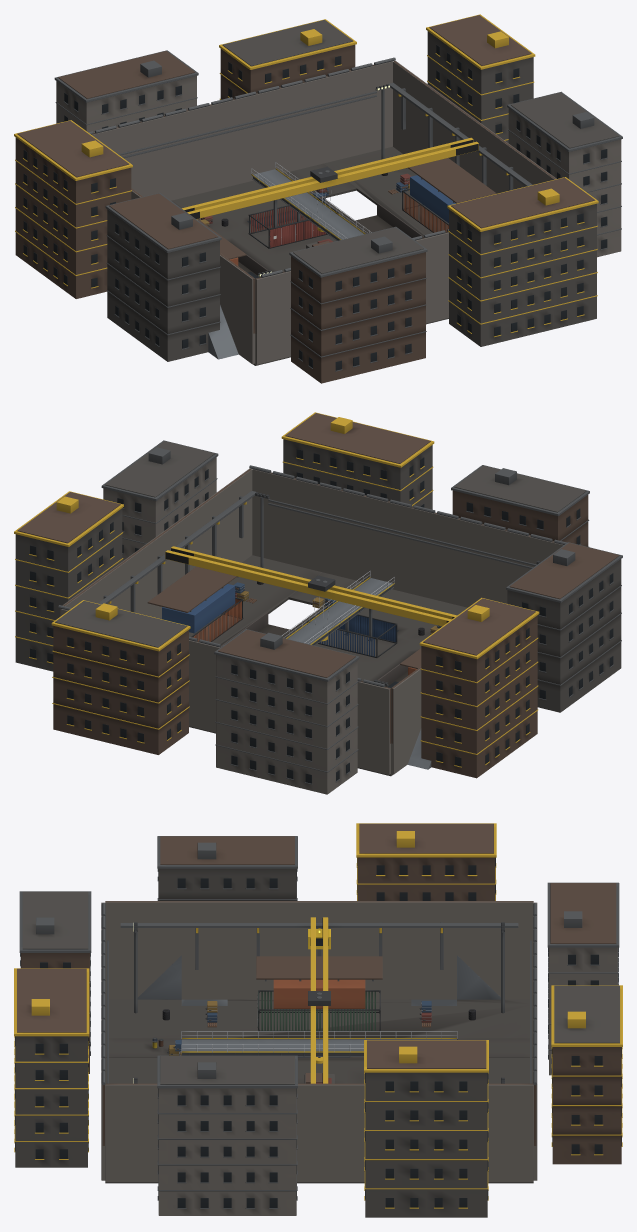
File: hd_junkflea.glb
3 views of the same model, one above another, from view 1: azimuth 30°, elevation 25°; view 2: azimuth 150°, elevation 25°; view 3: azimuth 270°, elevation 25° (orthographic). The views are drawn at different scales.
Visible parts, largest first — view 1: Junkflea_Horizon_Concrete_Stained_NonCol, Junkflea_Horizon_Corrugated_Steel_Rusted_NonCol, Boundary_Wall_North, Junkflea_Horizon_Concrete_Wall_NonCol, Junkflea_Horizon_Water_Slick_NonCol, Junkflea_Horizon_Steel_Rusted_NonCol, Junkflea_Horizon_Steel_IBeam_Yellow_NonCol, Junkflea_Horizon_Steel_Structural_NonCol, Boundary_Wall_East, Boundary_Wall_South, Yard_Floor_Center, Yard_Floor_East (+9 smaller); view 2: Junkflea_Horizon_Corrugated_Steel_Rusted_NonCol, Junkflea_Horizon_Concrete_Stained_NonCol, Boundary_Wall_South, Junkflea_Horizon_Concrete_Wall_NonCol, Junkflea_Horizon_Water_Slick_NonCol, Junkflea_Horizon_Steel_Rusted_NonCol, Boundary_Wall_East, Junkflea_Horizon_Steel_IBeam_Yellow_NonCol, Junkflea_Horizon_Steel_Structural_NonCol, Boundary_Wall_North, Yard_Floor_Center, Junkflea_CraneRunway_NonCol (+8 smaller); view 3: Junkflea_Horizon_Concrete_Stained_NonCol, Boundary_Wall_West, Junkflea_Horizon_Corrugated_Steel_Rusted_NonCol, Junkflea_Horizon_Concrete_Wall_NonCol, Boundary_Wall_East, Yard_Floor_West, Junkflea_Horizon_Steel_Rusted_NonCol, Junkflea_Horizon_Steel_IBeam_Yellow_NonCol, Junkflea_Horizon_Water_Slick_NonCol, Junkflea_Horizon_Steel_Structural_NonCol, Yard_Floor_Center, Junkflea_CraneRunway_NonCol (+12 smaller).
Boxes of the visible parts, box(x1,y1,x2,y2) form: Junkflea_Horizon_Concrete_Stained_NonCol: box(107, 20, 619, 361); Junkflea_Horizon_Corrugated_Steel_Rusted_NonCol: box(15, 44, 425, 383); Boundary_Wall_North: box(92, 61, 392, 200); Junkflea_Horizon_Concrete_Wall_NonCol: box(56, 76, 621, 257); Junkflea_Horizon_Water_Slick_NonCol: box(23, 45, 607, 370); Junkflea_Horizon_Steel_Rusted_NonCol: box(17, 15, 595, 228); Junkflea_Horizon_Steel_IBeam_Yellow_NonCol: box(14, 14, 598, 337); Junkflea_Horizon_Steel_Structural_NonCol: box(54, 50, 622, 371); Boundary_Wall_East: box(393, 61, 556, 193); Boundary_Wall_South: box(255, 232, 448, 364); Yard_Floor_Center: box(172, 172, 448, 324); Yard_Floor_East: box(323, 146, 448, 236); Junkflea_Horizon_Corrugated_Steel_Rusted_NonCol: box(53, 490, 619, 778); Junkflea_Horizon_Concrete_Stained_NonCol: box(15, 439, 621, 712); Boundary_Wall_South: box(252, 469, 563, 607); Junkflea_Horizon_Concrete_Wall_NonCol: box(103, 457, 357, 794); Junkflea_Horizon_Water_Slick_NonCol: box(30, 449, 613, 783); Junkflea_Horizon_Steel_Rusted_NonCol: box(17, 413, 535, 655); Boundary_Wall_East: box(60, 468, 252, 619); Junkflea_Horizon_Steel_IBeam_Yellow_NonCol: box(14, 412, 539, 767); Junkflea_Horizon_Steel_Structural_NonCol: box(101, 440, 622, 784); Boundary_Wall_North: box(61, 609, 390, 774); Yard_Floor_Center: box(189, 581, 467, 733); Junkflea_CraneRunway_NonCol: box(98, 491, 536, 612); Junkflea_Horizon_Concrete_Stained_NonCol: box(15, 868, 619, 1217); Boundary_Wall_West: box(105, 901, 533, 999); Junkflea_Horizon_Corrugated_Steel_Rusted_NonCol: box(21, 836, 621, 1164); Junkflea_Horizon_Concrete_Wall_NonCol: box(158, 947, 617, 1215); Boundary_Wall_East: box(105, 1084, 533, 1181); Yard_Floor_West: box(105, 999, 533, 1039); Junkflea_Horizon_Steel_Rusted_NonCol: box(17, 823, 493, 1068); Junkflea_Horizon_Steel_IBeam_Yellow_NonCol: box(14, 823, 622, 1208); Junkflea_Horizon_Water_Slick_NonCol: box(15, 857, 621, 1207); Junkflea_Horizon_Steel_Structural_NonCol: box(19, 836, 619, 1208); Yard_Floor_Center: box(105, 1058, 533, 1083); Junkflea_CraneRunway_NonCol: box(107, 922, 531, 1083).
Size of what is drawn, in the model's own units: 239 by 75.63 by 239.
